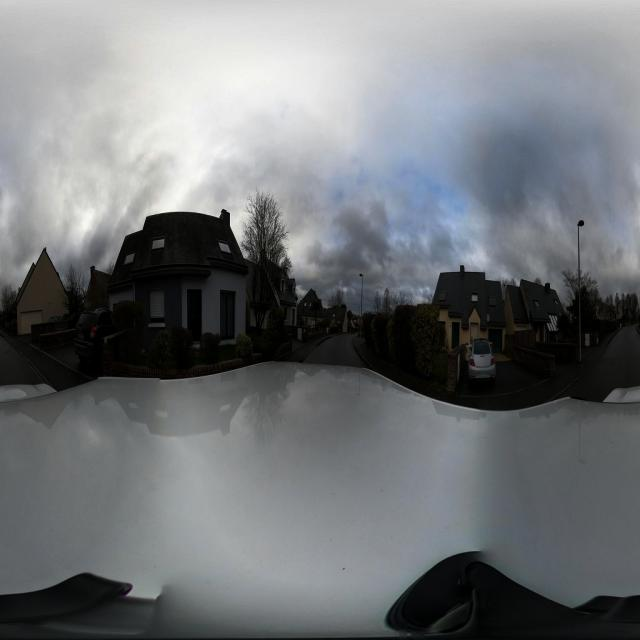car: (74, 307, 122, 375), (466, 337, 497, 388)
